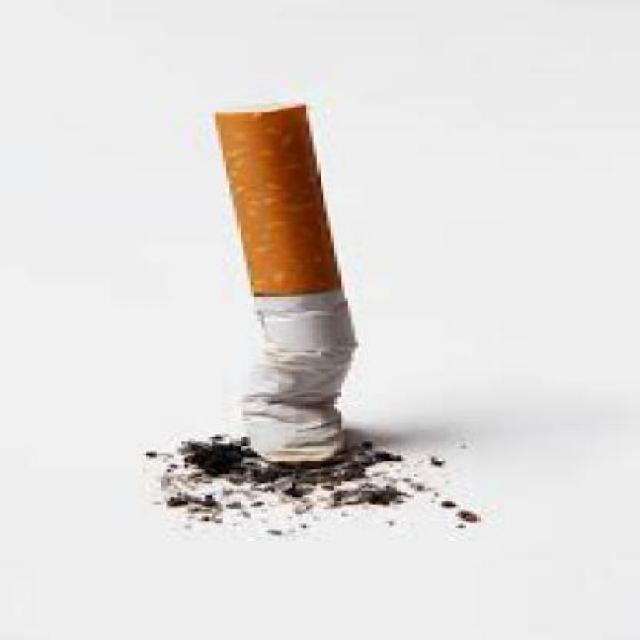cigarette: (152, 60, 372, 514)
